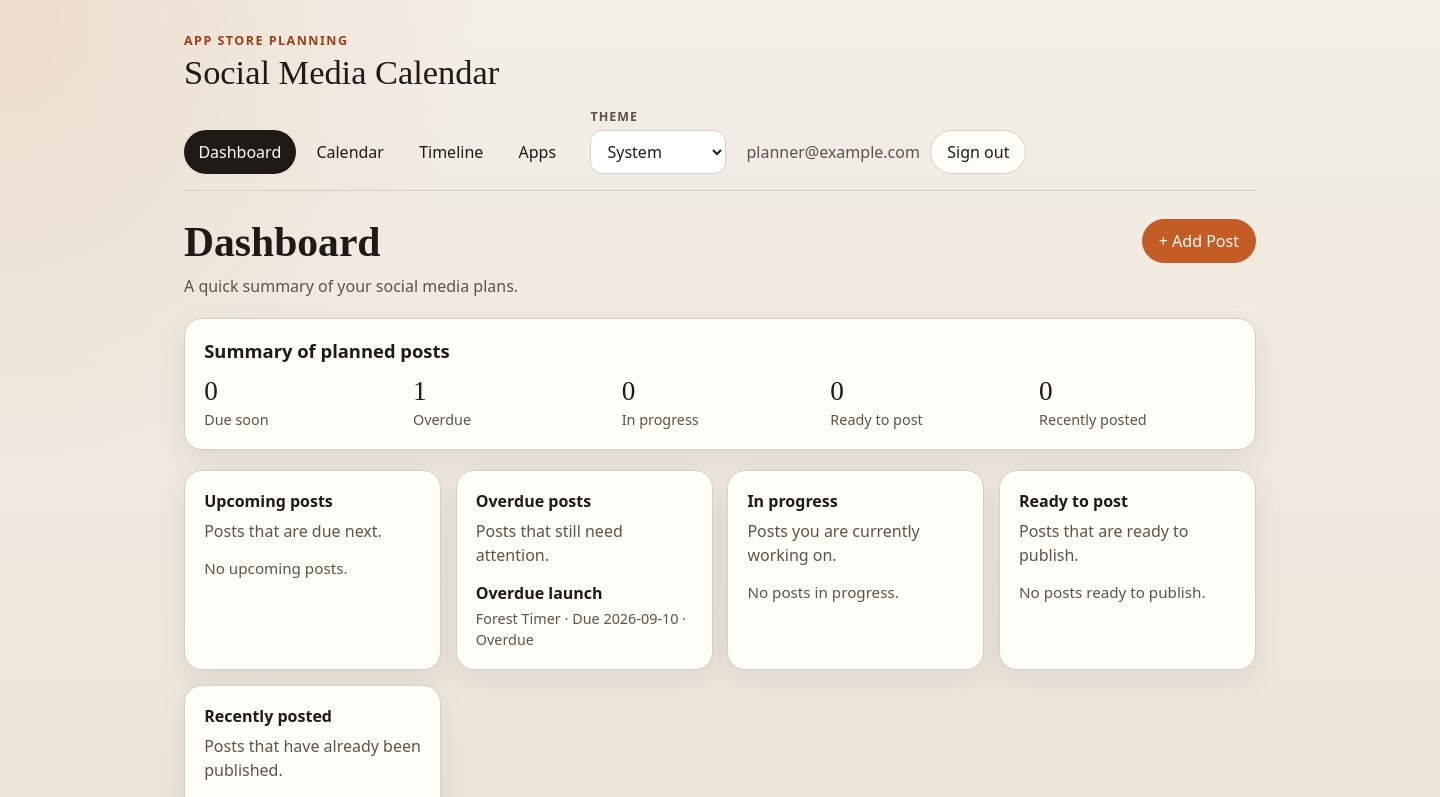
Test: B-013 overdue and upcoming posts › opens an overdue post from the Dashboard
Step 1. Click the link "Overdue launch" → (539, 593), box [476, 582, 603, 604]
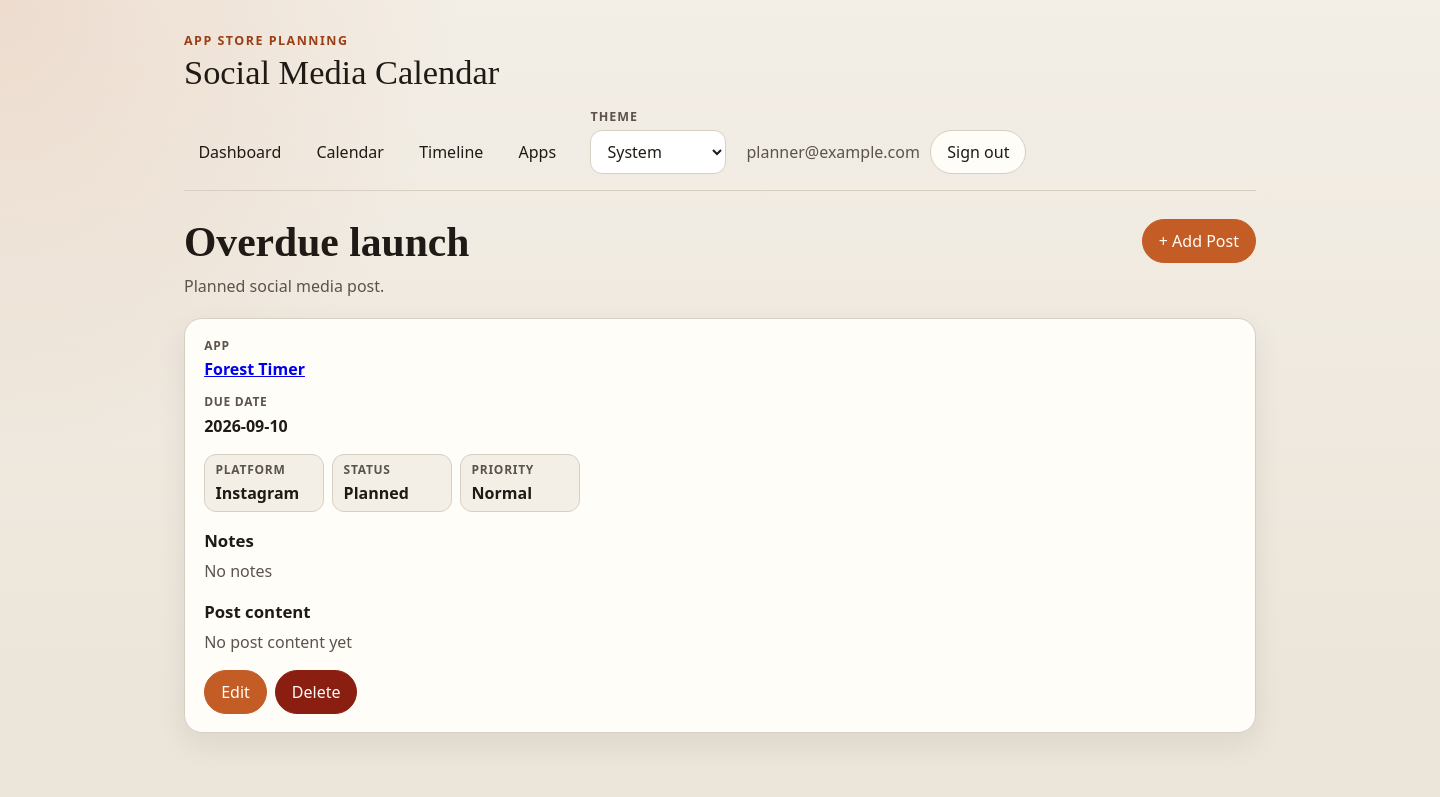
Result: the heading "Overdue launch" is shown at [184, 220, 469, 267]
